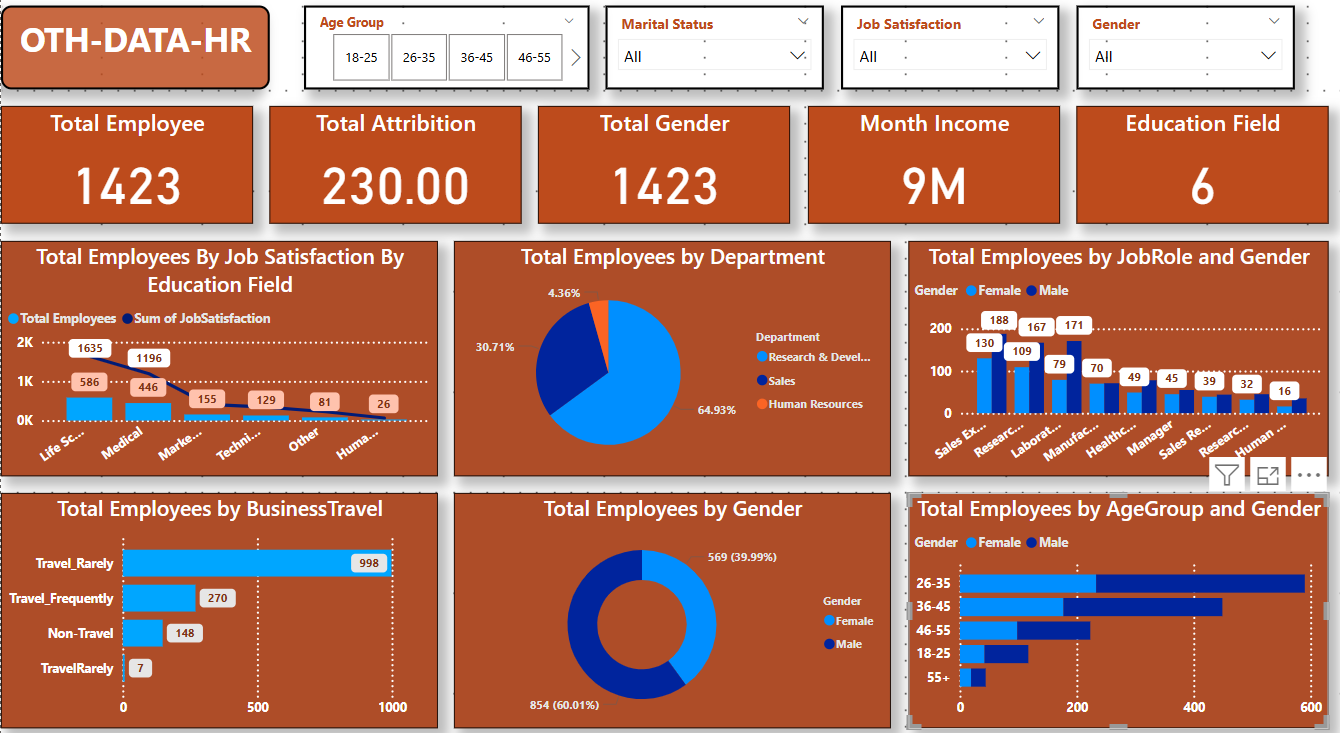

The page's visual inventory and layout, read from the dashboard file:
{"tool":"powerbi","page":{"name":"Page 1","canvas":[1280,720],"ordinal":0},"visuals":[{"type":"textbox","box":[0,16,256,80],"z":0},{"type":"slicer","fields":{"Values":["HR_Analytics.AgeGroup"]},"box":[288,16,272,80],"z":1000},{"type":"slicer","fields":{"Values":["HR_Analytics.MaritalStatus"]},"box":[576,16,208,80],"z":2000},{"type":"slicer","fields":{"Values":["HR_Analytics.JobSatisfaction"]},"box":[800,16,208,80],"z":3000},{"type":"slicer","fields":{"Values":["HR_Analytics.Gender"]},"box":[1024,16,208,80],"z":4000},{"type":"card","title":"Total Employee","fields":{"Values":["CountNonNull(HR_Analytics.EmpID)"]},"box":[0,112,240,112],"z":5000},{"type":"card","title":"Total Attribition","fields":{"Values":["Sum(HR_Analytics.ATTRITION COUNT)"]},"box":[256,112,240,112],"z":5001},{"type":"card","title":"Total Gender","fields":{"Values":["CountNonNull(HR_Analytics.Gender)"]},"box":[512,112,240,112],"z":5002},{"type":"card","title":"Month Income","fields":{"Values":["Sum(HR_Analytics.MonthlyIncome)"]},"box":[768,112,240,112],"z":5003},{"type":"card","title":"Education Field","fields":{"Values":["Count(HR_Analytics.EducationField)"]},"box":[1024,112,240,112],"z":5004},{"type":"lineStackedColumnComboChart","title":"Total Employees By Job Satisfaction By Education Field","fields":{"Y":["HR_Analytics.Total Employees"],"Category":["HR_Analytics.EducationField"],"Y2":["Sum(HR_Analytics.JobSatisfaction)"]},"box":[0,240,416,224],"z":5005},{"type":"pieChart","fields":{"Y":["HR_Analytics.Total Employees"],"Category":["HR_Analytics.Department"]},"box":[432,240,416,224],"z":5006},{"type":"lineClusteredColumnComboChart","fields":{"Y":["HR_Analytics.Total Employees"],"Category":["HR_Analytics.JobRole"],"Series":["HR_Analytics.Gender"]},"box":[864,240,400,224],"z":5007},{"type":"clusteredBarChart","fields":{"Y":["HR_Analytics.Total Employees"],"Category":["HR_Analytics.BusinessTravel"]},"box":[0,480,416,224],"z":5010},{"type":"donutChart","fields":{"Series":["HR_Analytics.Gender"],"Y":["HR_Analytics.Total Employees"]},"box":[432,480,416,224],"z":5011},{"type":"barChart","fields":{"Category":["HR_Analytics.AgeGroup"],"Y":["HR_Analytics.Total Employees"],"Series":["HR_Analytics.Gender"]},"box":[864,480,400,224],"z":5012}]}

Visuals, with their boxes in screenshot pixels (x1, y1, x2, y2), scaled from the page's 1280x720 canvas onto the 1340x733 screenshot:
textbox: {"x1": 0, "y1": 16, "x2": 268, "y2": 98}
slicer - HR_Analytics.AgeGroup: {"x1": 302, "y1": 16, "x2": 586, "y2": 98}
slicer - HR_Analytics.MaritalStatus: {"x1": 603, "y1": 16, "x2": 821, "y2": 98}
slicer - HR_Analytics.JobSatisfaction: {"x1": 838, "y1": 16, "x2": 1055, "y2": 98}
slicer - HR_Analytics.Gender: {"x1": 1072, "y1": 16, "x2": 1290, "y2": 98}
"Total Employee" card: {"x1": 0, "y1": 114, "x2": 251, "y2": 228}
"Total Attribition" card: {"x1": 268, "y1": 114, "x2": 519, "y2": 228}
"Total Gender" card: {"x1": 536, "y1": 114, "x2": 787, "y2": 228}
"Month Income" card: {"x1": 804, "y1": 114, "x2": 1055, "y2": 228}
"Education Field" card: {"x1": 1072, "y1": 114, "x2": 1323, "y2": 228}
"Total Employees By Job Satisfaction By Education Field" lineStackedColumnComboChart: {"x1": 0, "y1": 244, "x2": 436, "y2": 472}
pieChart - HR_Analytics.Total Employees x HR_Analytics.Department: {"x1": 452, "y1": 244, "x2": 888, "y2": 472}
lineClusteredColumnComboChart - HR_Analytics.Total Employees x HR_Analytics.JobRole: {"x1": 904, "y1": 244, "x2": 1323, "y2": 472}
clusteredBarChart - HR_Analytics.Total Employees x HR_Analytics.BusinessTravel: {"x1": 0, "y1": 489, "x2": 436, "y2": 717}
donutChart - HR_Analytics.Gender x HR_Analytics.Total Employees: {"x1": 452, "y1": 489, "x2": 888, "y2": 717}
barChart - HR_Analytics.AgeGroup x HR_Analytics.Total Employees: {"x1": 904, "y1": 489, "x2": 1323, "y2": 717}
